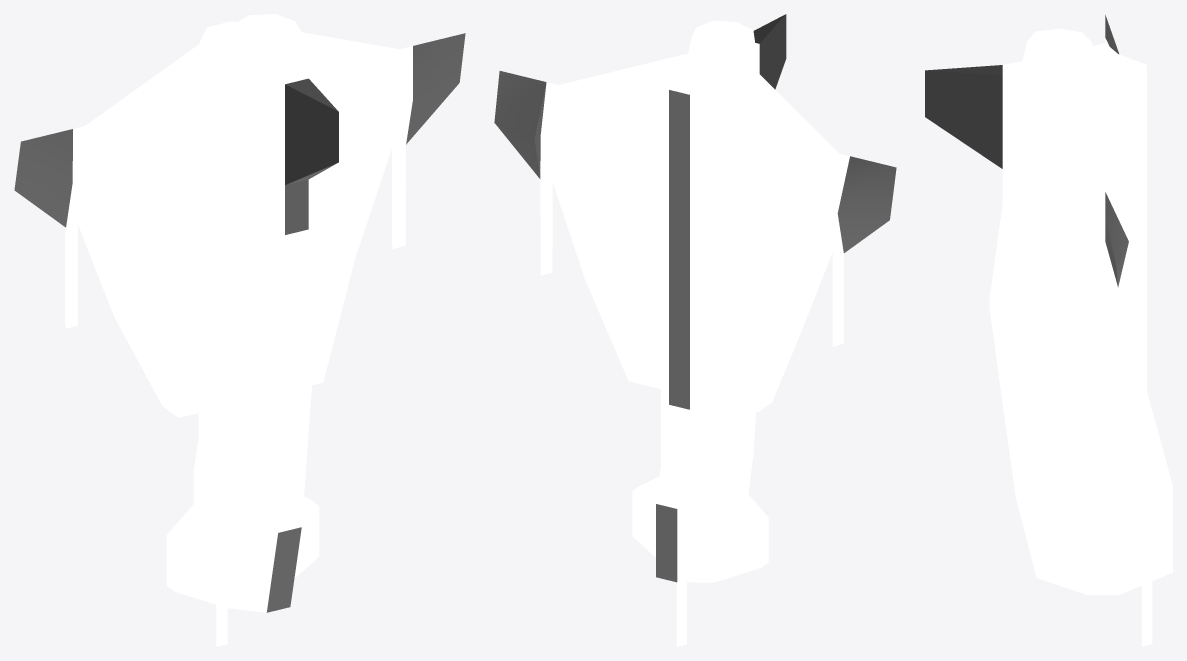
Rendered from ship_02_13003.glb.
3 views of the same model, side by side, from view 1: azimuth 30°, elevation 25°; view 2: azimuth 150°, elevation 25°; view 3: azimuth 270°, elevation 25° (orthographic). The views are drawn at different scales.
Parts seen in each view (by area): view 1: group_19; view 2: group_19; view 3: group_19.
Boxes of the visible parts, x1,y1,x2,y2 form: group_19: (14,14,465,646); group_19: (494,14,896,646); group_19: (925,15,1172,646).
Bounding box in the file's own units: 922 × 1288 × 480.
2 materials, 2 textured.
